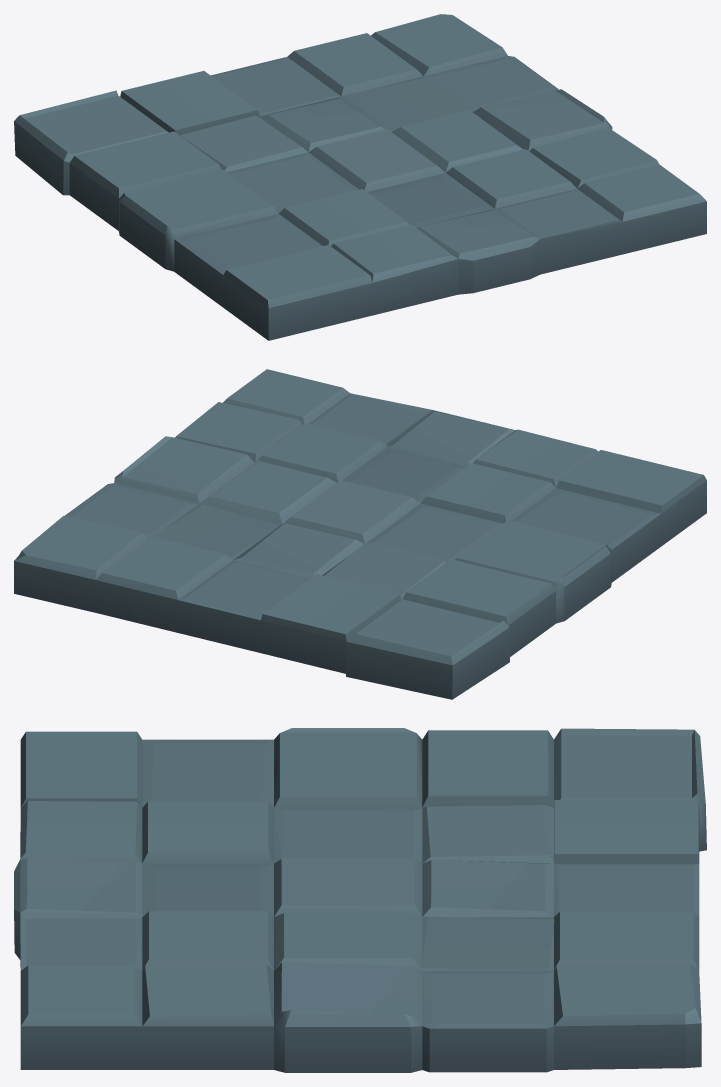
Rendered from Modular_Dungeon_Tile_Uniform_Full_Plain.fbx.
The picture shows the model from 3 angles, top to bottom: view 1: azimuth 30°, elevation 25°; view 2: azimuth 150°, elevation 25°; view 3: azimuth 270°, elevation 25°; orthographic projection. The views are drawn at different scales.
Visible parts, largest first — view 1: Tile_Uniform_Full_Plain; view 2: Tile_Uniform_Full_Plain; view 3: Tile_Uniform_Full_Plain.
Part boxes in pixels (<box>): Tile_Uniform_Full_Plain: <box>14,14,706,340</box>; Tile_Uniform_Full_Plain: <box>14,369,706,699</box>; Tile_Uniform_Full_Plain: <box>14,728,706,1072</box>.
Size of the model in its own units: 6.47 by 0.6054 by 6.48.
1 material, 1 textured.
